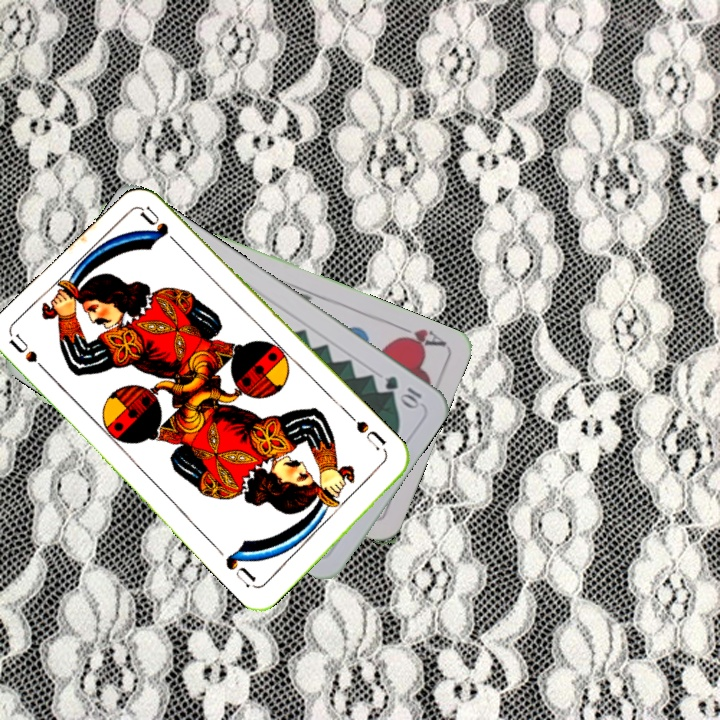G10: (380, 371, 424, 412)
HA: (391, 320, 448, 353)
SU: (6, 331, 55, 380), (345, 411, 391, 459)
